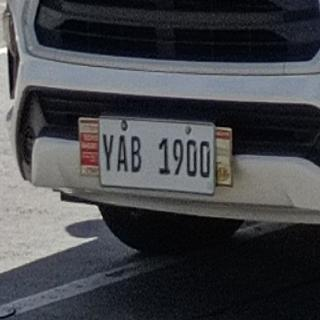license: (100, 119, 217, 195)
